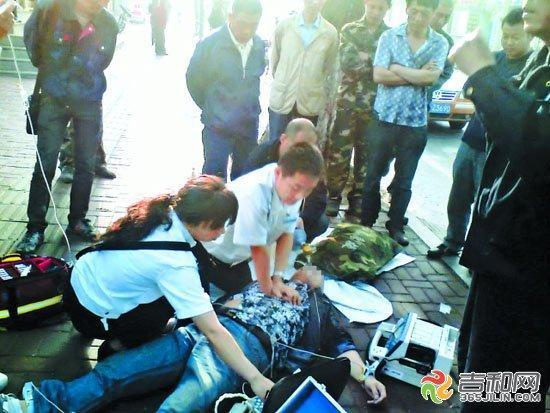Fall-Detected: (11, 262, 406, 407)
